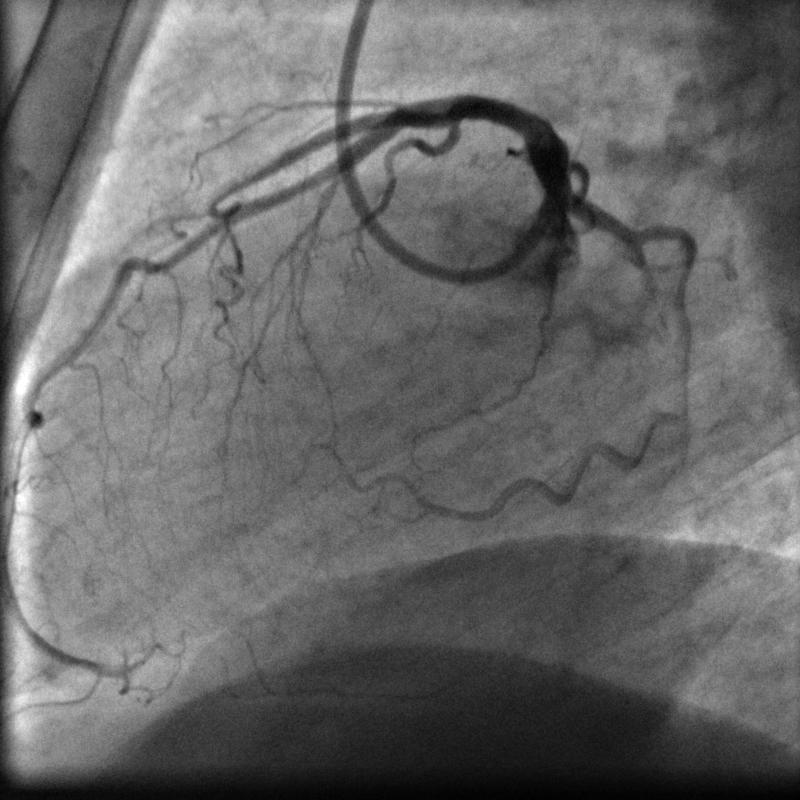Stenosis: (428, 94, 469, 133)
